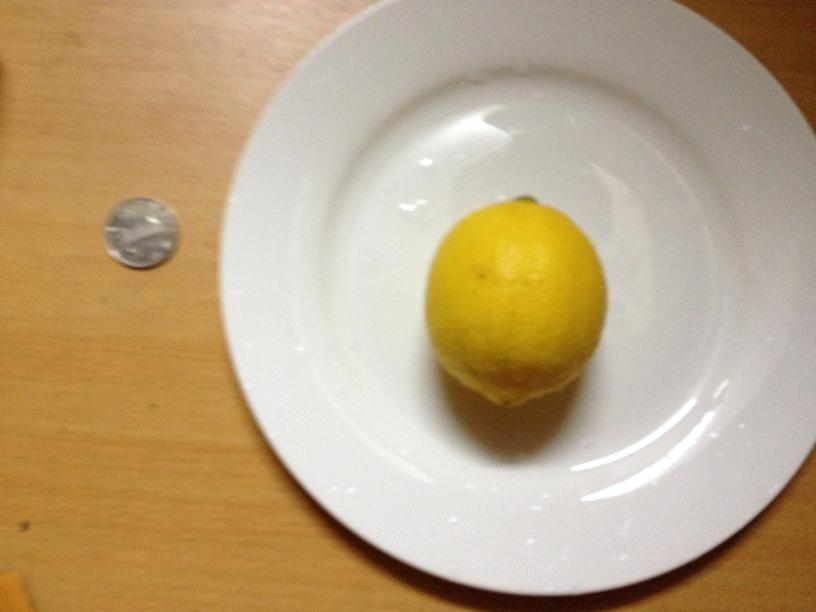coin: (103, 196, 177, 270)
lemon: (432, 196, 607, 409)
